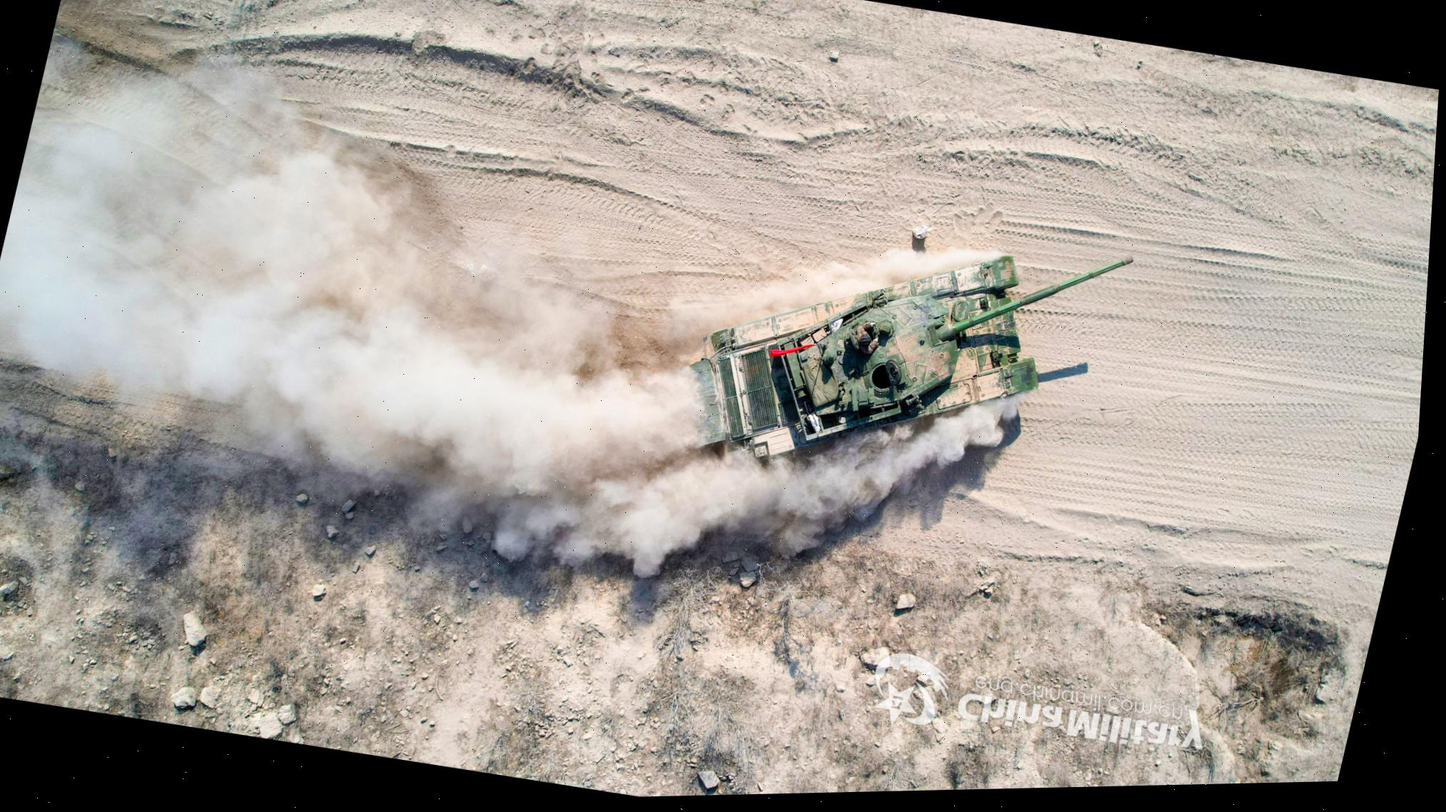armored_car: (665, 178, 1150, 527)
